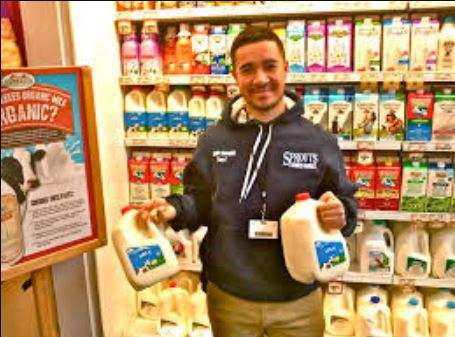milk: (281, 195, 350, 280), (113, 207, 185, 283), (362, 221, 395, 280), (397, 222, 429, 277), (159, 285, 192, 337), (394, 299, 431, 337), (361, 297, 389, 337), (127, 87, 145, 143), (169, 87, 187, 142), (434, 224, 455, 271), (149, 87, 165, 145), (432, 298, 454, 337), (189, 92, 205, 132)
